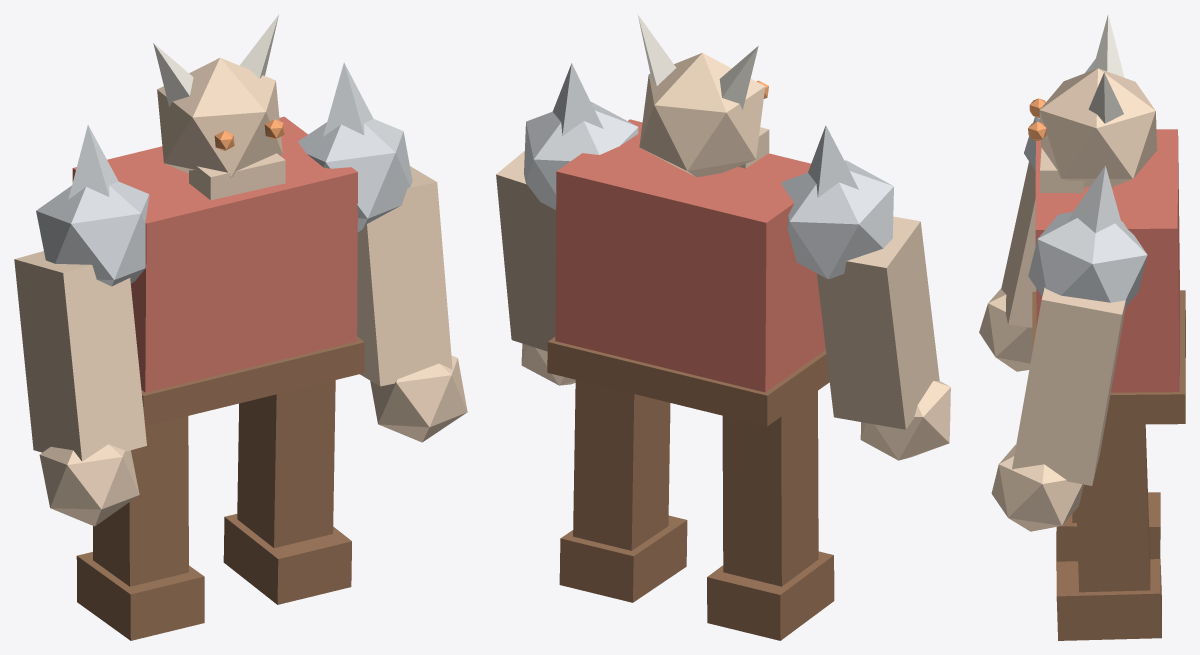
The model's file is npcpose_brute_idle_05.glb.
The picture shows the model from 3 angles, left to right: view 1: azimuth 30°, elevation 25°; view 2: azimuth 150°, elevation 25°; view 3: azimuth 270°, elevation 25°; orthographic projection. The views are drawn at different scales.
Parts seen in each view (by area): view 1: npcpose; view 2: npcpose; view 3: npcpose.
Boxes of the visible parts, left/top/right/bottom form: npcpose: left=14, top=14, right=467, bottom=640; npcpose: left=496, top=14, right=950, bottom=640; npcpose: left=979, top=14, right=1185, bottom=640.
Bounding box in the file's own units: 1.43 × 1.85 × 0.6357.
